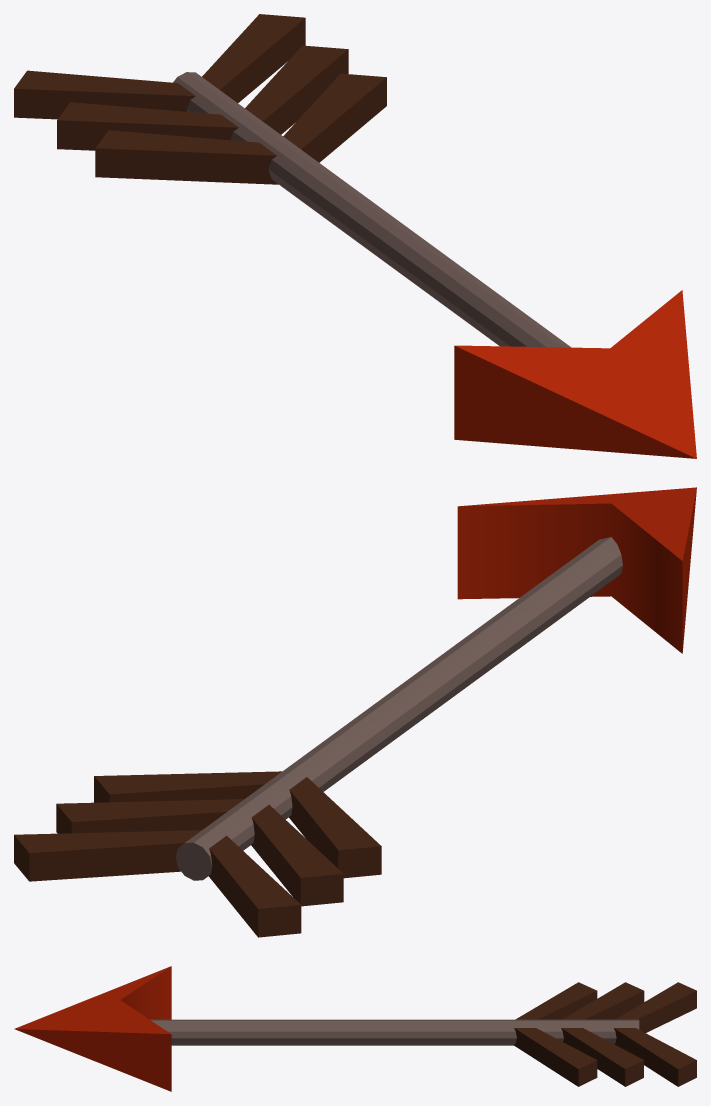
The model's file is ms_arrow.fbx.
3 renders of one model, top to bottom at view 1: azimuth 30°, elevation 25°; view 2: azimuth 150°, elevation 25°; view 3: azimuth 270°, elevation 25°, orthographic. The views are drawn at different scales.
Parts seen in each view (by area): view 1: pCylinder2; view 2: pCylinder2; view 3: pCylinder2.
Boxes of the visible parts, left/top/right/bottom form: pCylinder2: left=14, top=14, right=696, bottom=458; pCylinder2: left=14, top=487, right=696, bottom=937; pCylinder2: left=14, top=966, right=696, bottom=1091.
Bounding box in the file's own units: 4.55 × 1.41 × 15.07.
